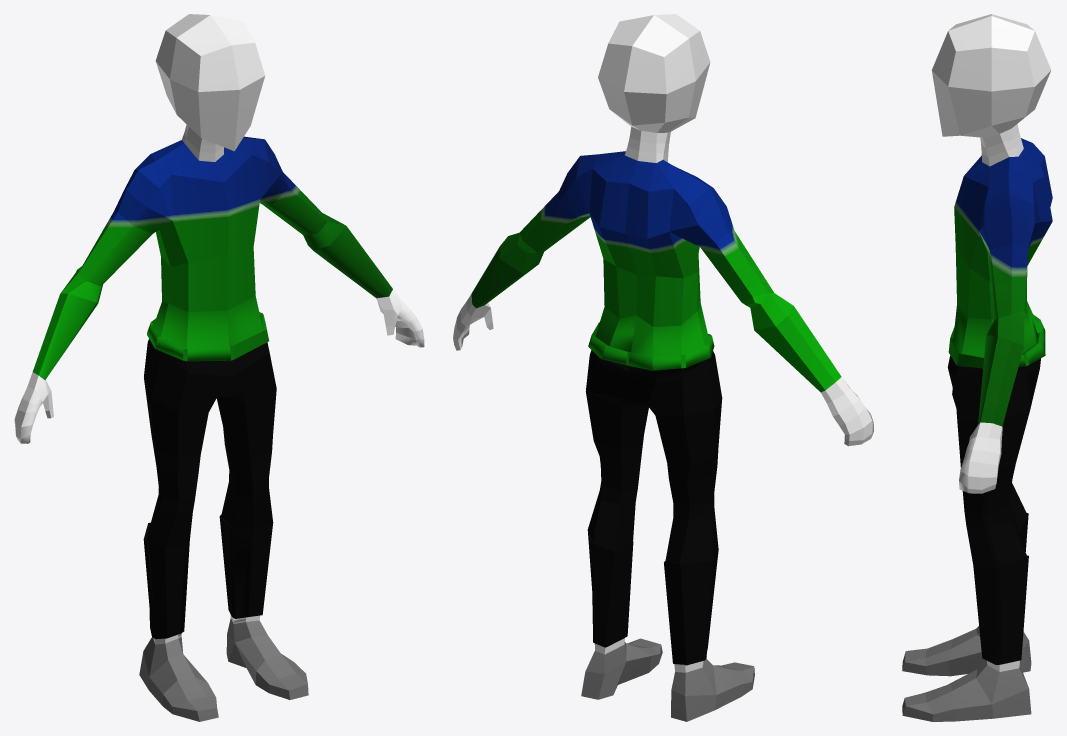
File: NPC Merch.fbx
3 views of the same model, side by side, from view 1: azimuth 30°, elevation 25°; view 2: azimuth 150°, elevation 25°; view 3: azimuth 270°, elevation 25° (orthographic). The views are drawn at different scales.
Parts seen in each view (by area): view 1: low Poly Character; view 2: low Poly Character; view 3: low Poly Character.
Part boxes in pixels (x1=…): low Poly Character: x1=14, y1=14, x2=424, y2=721; low Poly Character: x1=453, y1=14, x2=873, y2=721; low Poly Character: x1=902, y1=14, x2=1052, y2=721.
Bounding box in the file's own units: 116 × 183 × 37.06.
Materials: 1 (1 with a texture image).
